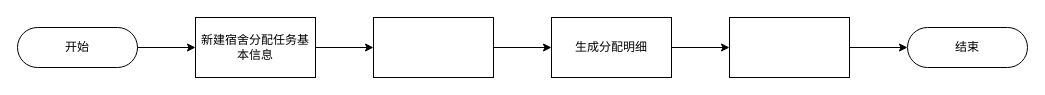
This 1045x95 diagram has some shape labels left out. Here are the shapes that lost their labels. From the top down, the box of each, then its label:
(372, 16, 494, 78): 选择分配对象的筛选条件
(728, 16, 850, 78): 保存分配结果
